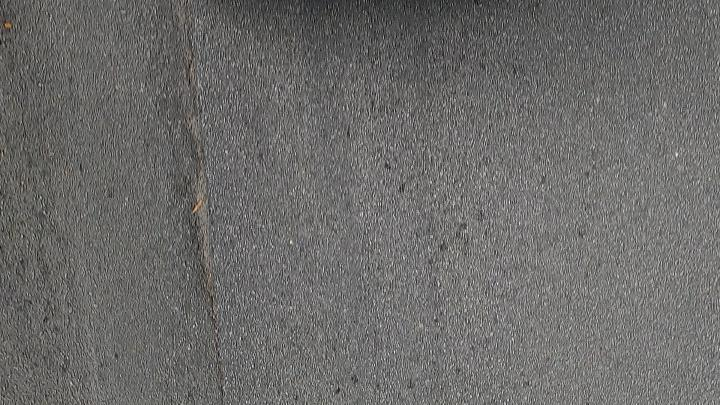Crack: (169, 0, 229, 405), (170, 0, 223, 404)
